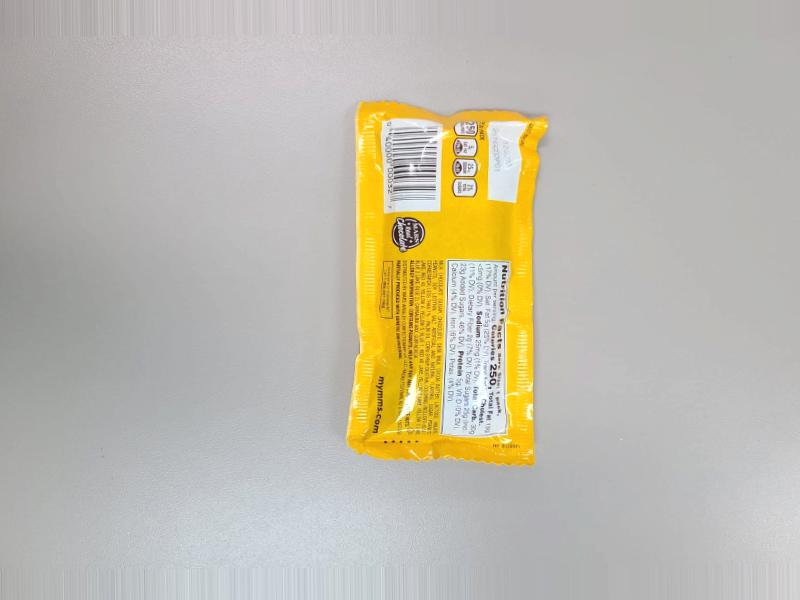m&m: (326, 88, 558, 480)
